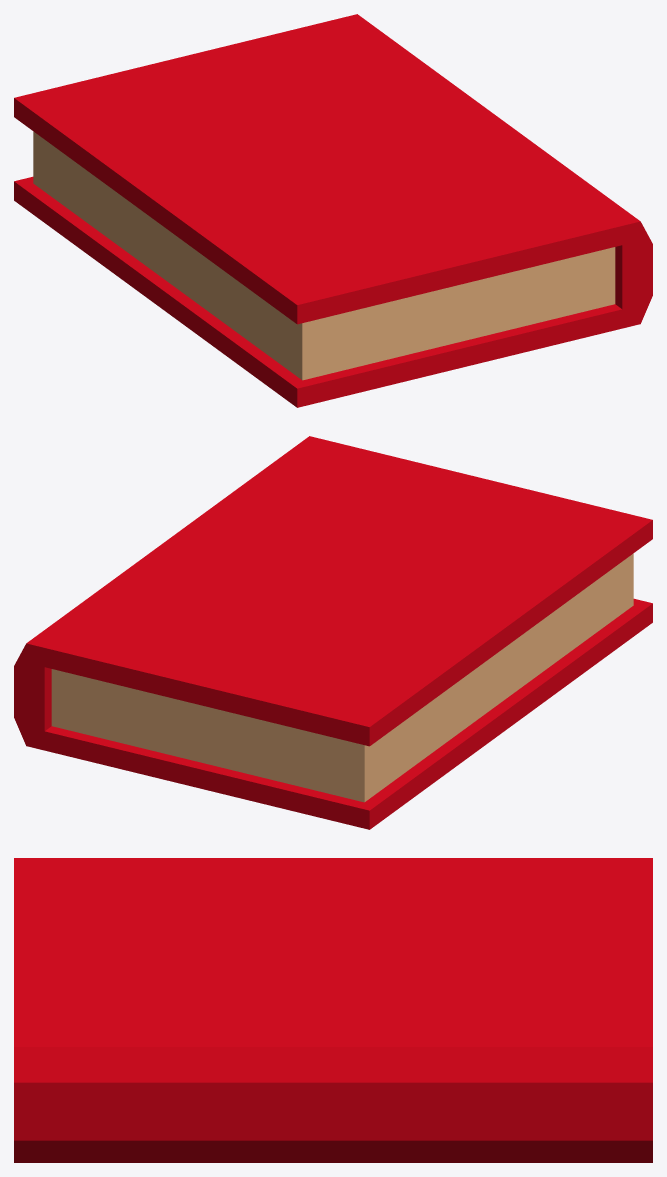
Rendered from Book_2.fbx.
3 views of the same model, one above another, from view 1: azimuth 30°, elevation 25°; view 2: azimuth 150°, elevation 25°; view 3: azimuth 270°, elevation 25° (orthographic). The views are drawn at different scales.
Parts seen in each view (by area): view 1: Book_2; view 2: Book_2; view 3: Book_2.
Boxes of the visible parts, box(x1,y1,x2,y2) form: Book_2: box(14, 14, 652, 407); Book_2: box(14, 436, 652, 829); Book_2: box(14, 858, 652, 1162).
Size of the model in its own units: 0.29 by 0.4 by 0.08.
